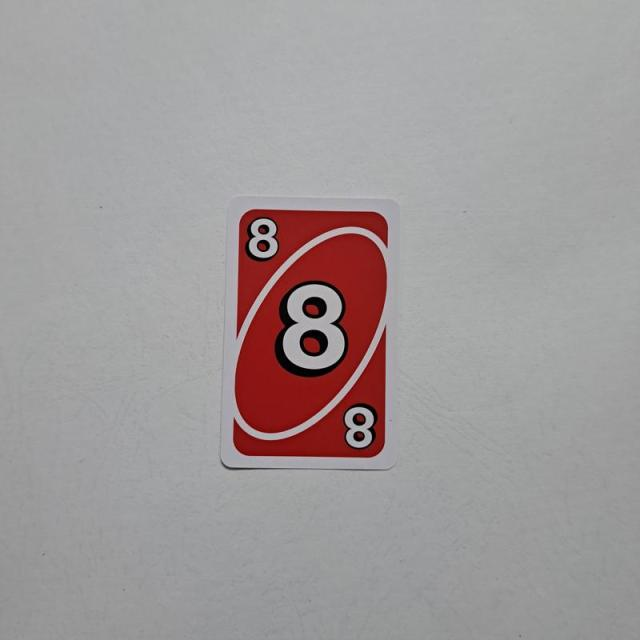Number_8: (244, 212, 283, 266)
Red_Card: (230, 207, 393, 462)
